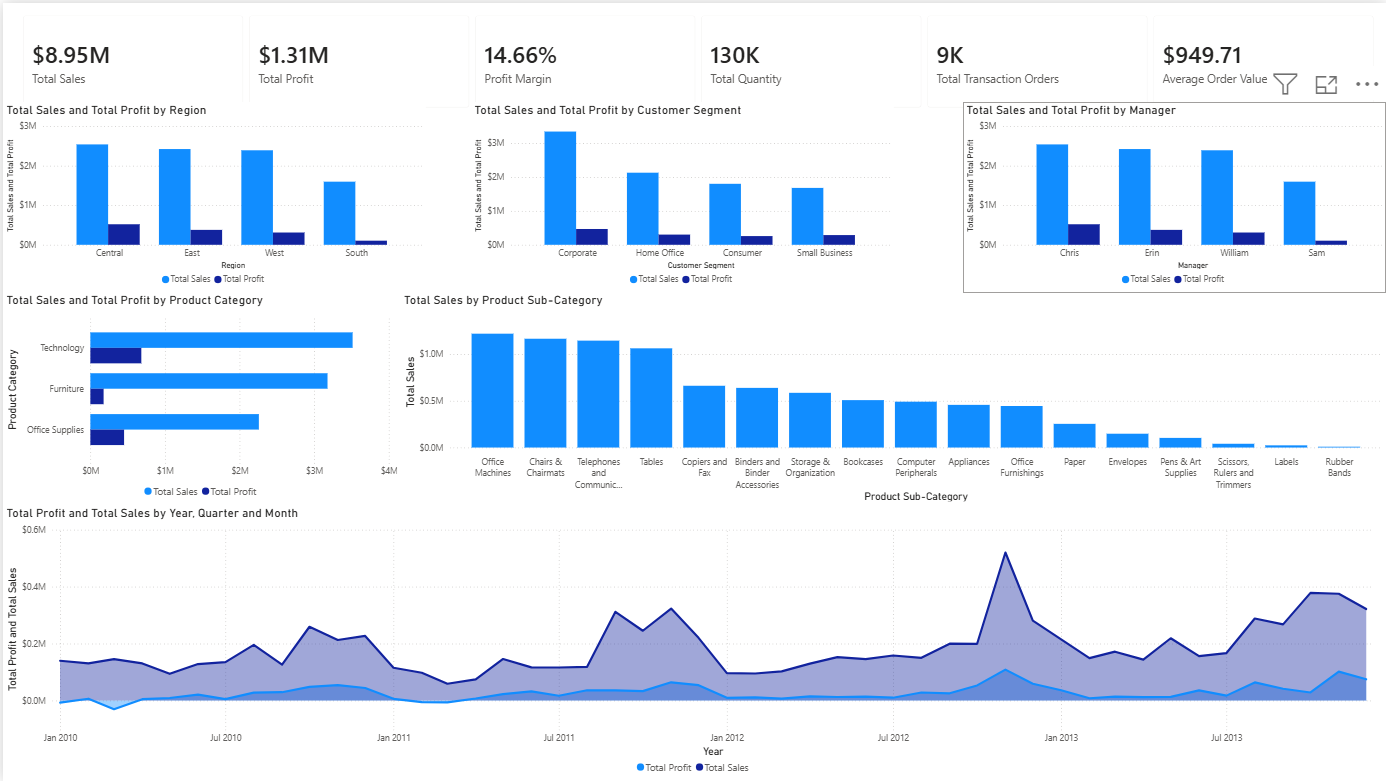

This screenshot's page, from the dashboard's own definition file:
{"tool":"powerbi","page":{"name":"Executive Summary","canvas":[1920,1080],"ordinal":1},"visuals":[{"type":"cardVisual","fields":{"Data":["Dax Measures.Total Sales","Dax Measures.Total Profit","Dax Measures.Profit Margin","Dax Measures.Total Quantity","Dax Measures.Total Orders","Dax Measures.Average Order Value"]},"box":[10,0,1910,162.5],"z":0},{"type":"lineChart","fields":{"Category":["Dim Date.Date.Variation.Date Hierarchy.Year","Dim Date.Date.Variation.Date Hierarchy.Quarter","Dim Date.Date.Variation.Date Hierarchy.Month"],"Y":["Dax Measures.Total Profit","Dax Measures.Total Sales"]},"box":[0,697.5,1920,382.5],"z":1000},{"type":"clusteredBarChart","fields":{"Category":["Dim Product.Product Category"],"Y":["Dax Measures.Total Sales","Dax Measures.Total Profit"]},"box":[0,402.5,552.5,295],"z":2000},{"type":"columnChart","fields":{"Category":["Dim Product.Product Sub-Category"],"Y":["Dax Measures.Total Sales"]},"box":[552.5,402.5,1367.5,295],"z":3000},{"type":"clusteredColumnChart","fields":{"Category":["Dim Location.Region"],"Y":["Dax Measures.Total Sales","Dax Measures.Total Profit"]},"box":[0,137.5,587.5,265],"z":4000},{"type":"clusteredColumnChart","fields":{"Y":["Dax Measures.Total Sales","Dax Measures.Total Profit"],"Category":["Dim Customer.Customer Segment"]},"box":[650,137.5,587.5,265],"z":5000},{"type":"clusteredColumnChart","fields":{"Y":["Dax Measures.Total Sales","Dax Measures.Total Profit"],"Category":["Dim Managers.Manager"]},"box":[1332.5,137.5,587.5,265],"z":6000}]}

Visuals, with their boxes in screenshot pixels (x1, y1, x2, y2), scaled from the page's 1920x1080 canvas onto the 1386x781 screenshot:
cardVisual - Dax Measures.Total Sales x Dax Measures.Total Profit: 7,0,1385,118
lineChart - Dim Date.Date.Variation.Date Hierarchy.Year x Dim Date.Date.Variation.Date Hierarchy.Quarter: 0,504,1385,780
clusteredBarChart - Dim Product.Product Category x Dax Measures.Total Sales: 0,291,399,504
columnChart - Dim Product.Product Sub-Category x Dax Measures.Total Sales: 399,291,1385,504
clusteredColumnChart - Dim Location.Region x Dax Measures.Total Sales: 0,99,424,291
clusteredColumnChart - Dax Measures.Total Sales x Dax Measures.Total Profit: 469,99,893,291
clusteredColumnChart - Dax Measures.Total Sales x Dax Measures.Total Profit: 962,99,1385,291
